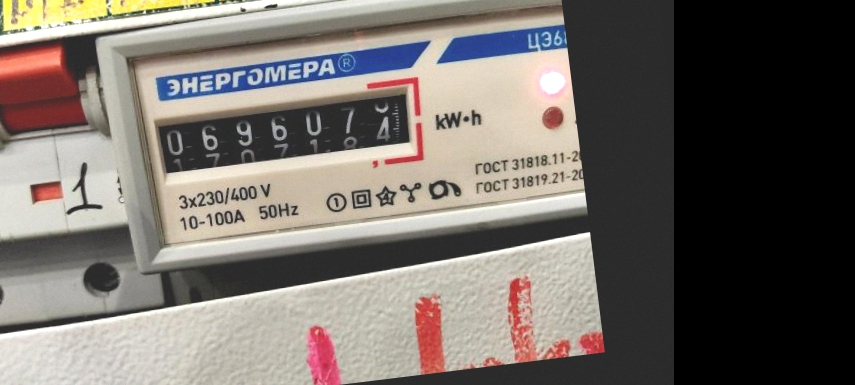0: (163, 125, 186, 157), (302, 105, 325, 137)
4: (371, 112, 393, 142)
6: (196, 119, 222, 152), (268, 111, 290, 141)
7: (337, 101, 357, 133)
9: (233, 116, 254, 147)
screen: (135, 68, 429, 192)
